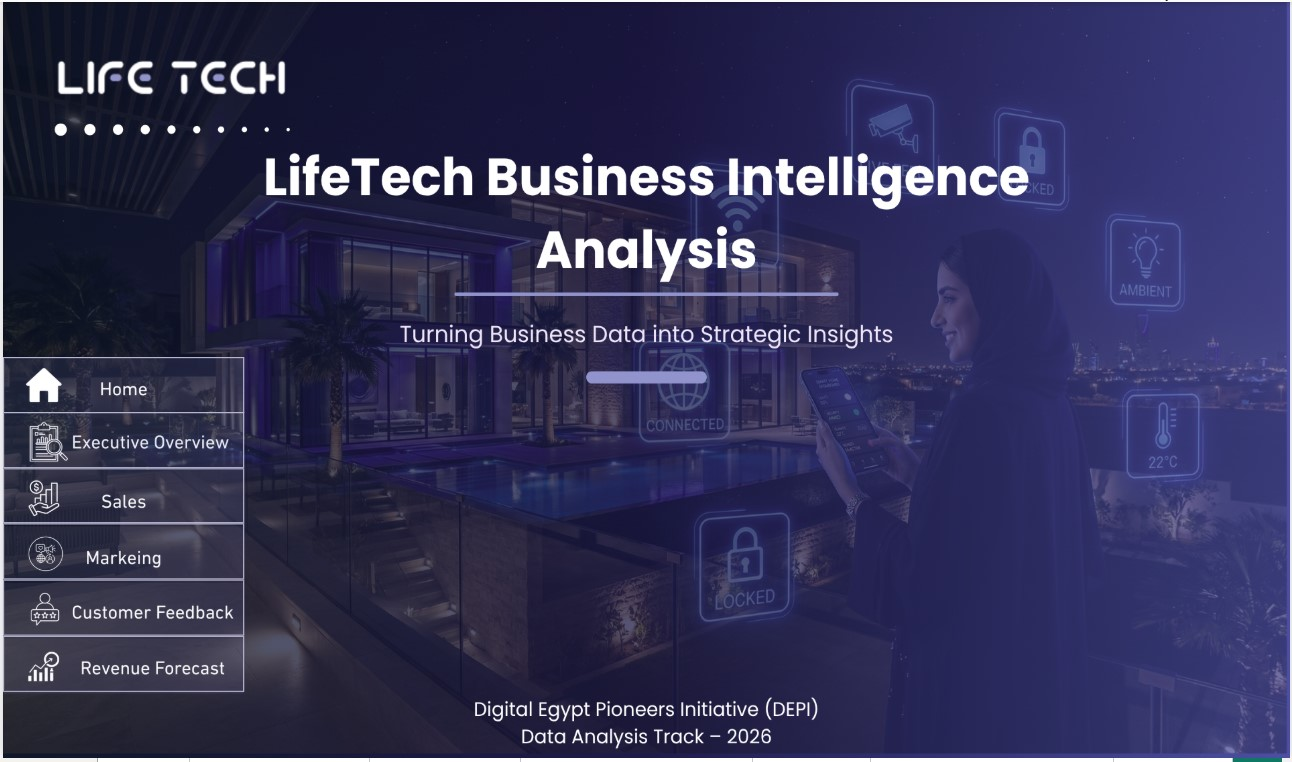

Layout of this report page (visuals, bound fields, positions):
{"tool":"powerbi","page":{"name":"Home","canvas":[2200,1250],"ordinal":0},"visuals":[{"type":"image","box":[0,565.2,412.5,96.2],"z":0},{"type":"image","box":[0,661.4,412.5,94],"z":1000},{"type":"image","box":[0,757.5,412.5,96.2],"z":2000},{"type":"image","box":[0,853.7,412.5,96.2],"z":3000},{"type":"image","box":[0,949.9,412.5,96.2],"z":4000},{"type":"image","box":[0,1046.1,412.5,94],"z":5000},{"type":"actionButton","box":[0,565.2,412.5,96.2],"z":6000},{"type":"actionButton","box":[0,659.2,412.5,96.2],"z":7000},{"type":"actionButton","box":[0,755.4,412.5,94],"z":8000},{"type":"actionButton","box":[0,849.5,412.5,96.2],"z":9000},{"type":"actionButton","box":[0,945.6,412.5,96.2],"z":10000},{"type":"actionButton","box":[0,1041.8,412.5,96.2],"z":11000}]}

Visuals, with their boxes on the page's 2200x1250 design canvas (x1, y1, x2, y2). These are canvas units, not pixel positions in the 1292x762 screenshot, which may show the page scaled, cropped or inside an application window:
image: region(0, 565, 412, 661)
image: region(0, 661, 412, 755)
image: region(0, 758, 412, 854)
image: region(0, 854, 412, 950)
image: region(0, 950, 412, 1046)
image: region(0, 1046, 412, 1140)
actionButton: region(0, 565, 412, 661)
actionButton: region(0, 659, 412, 755)
actionButton: region(0, 755, 412, 849)
actionButton: region(0, 850, 412, 946)
actionButton: region(0, 946, 412, 1042)
actionButton: region(0, 1042, 412, 1138)
